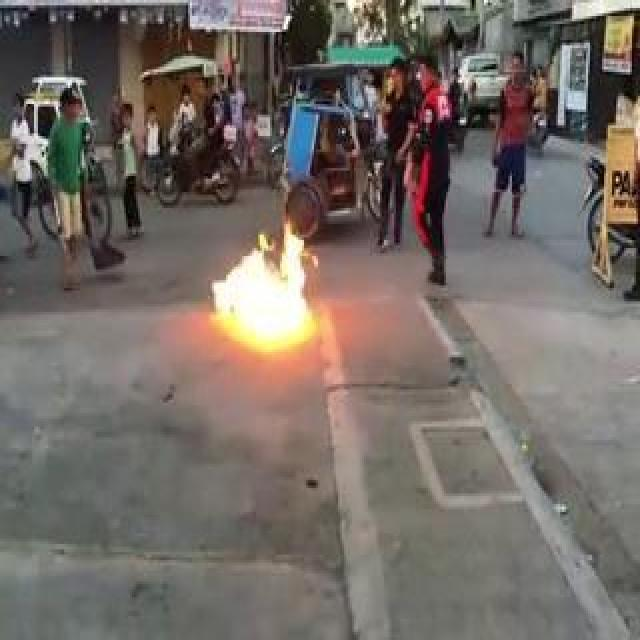Fire: (209, 221, 311, 352)
